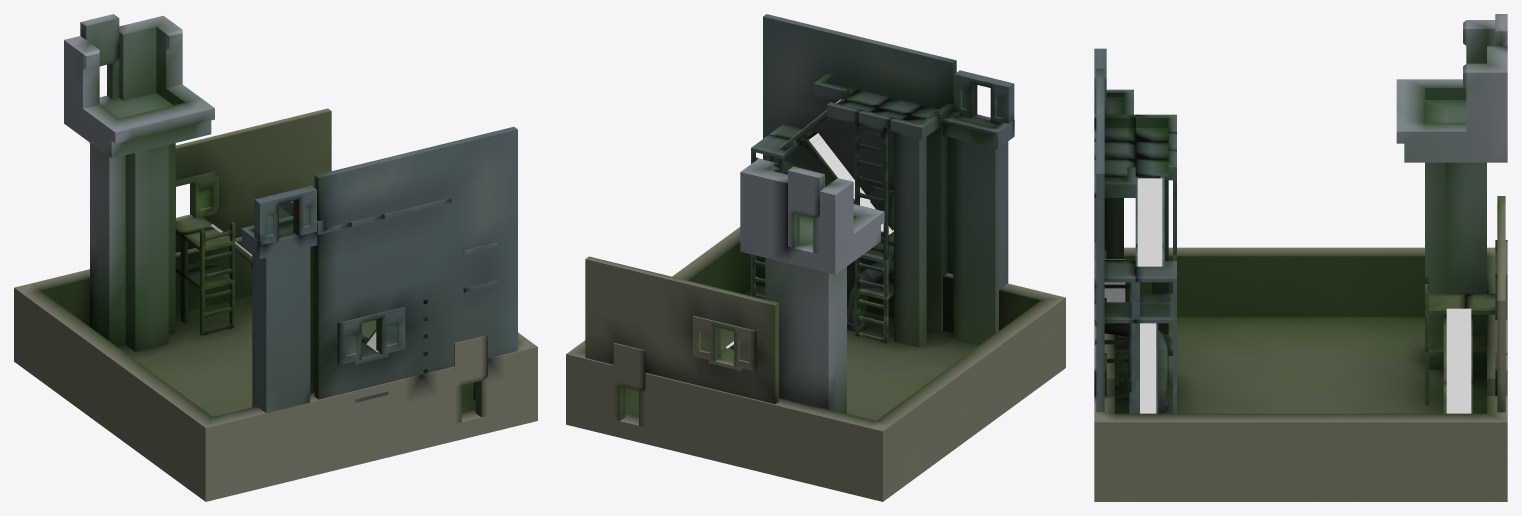
The picture shows the model from 3 angles, left to right: view 1: azimuth 30°, elevation 25°; view 2: azimuth 150°, elevation 25°; view 3: azimuth 270°, elevation 25°; orthographic projection. The views are drawn at different scales.
Parts seen in each view (by area): view 1: fancy stairs01, two_tank_roof10, deck roof01, simple stairs01, metal01; view 2: two_tank_roof10, fancy stairs01, deck roof01, simple stairs01, metal01, ramp04; view 3: two_tank_roof10, deck roof01, fancy stairs01, metal01, ramp04, simple stairs01.
Boxes of the visible parts, box(x1,y1,x2,y2) form: fancy stairs01: box(241, 127, 517, 413); two_tank_roof10: box(14, 204, 537, 501); deck roof01: box(64, 14, 214, 351); simple stairs01: box(175, 108, 331, 252); metal01: box(175, 214, 497, 402); two_tank_roof10: box(566, 227, 1065, 501); fancy stairs01: box(763, 14, 1014, 347); deck roof01: box(740, 158, 884, 413); simple stairs01: box(585, 256, 778, 404); metal01: box(708, 99, 893, 370); ramp04: box(722, 99, 893, 349); two_tank_roof10: box(1094, 247, 1507, 501); deck roof01: box(1396, 14, 1507, 378); fancy stairs01: box(1094, 48, 1176, 412); metal01: box(1094, 176, 1495, 413); ramp04: box(1104, 178, 1471, 413); simple stairs01: box(1495, 196, 1507, 412).
Size of the model in its own units: 20 by 18.6 by 20.01.
